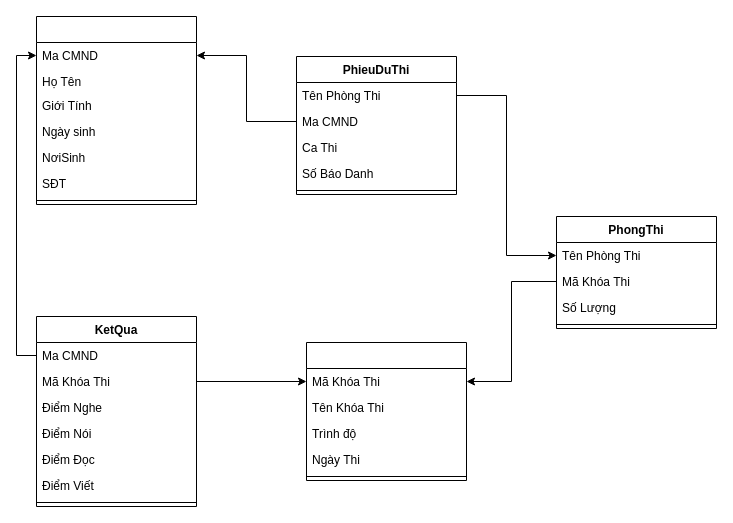
The diagram is 733 pixels wide and 523 high, and some of its shapes have lost their labels. Each missing label, with the box of its shape:
KhoaThi: (306, 342, 466, 480)
ThiSinh: (36, 16, 196, 204)
